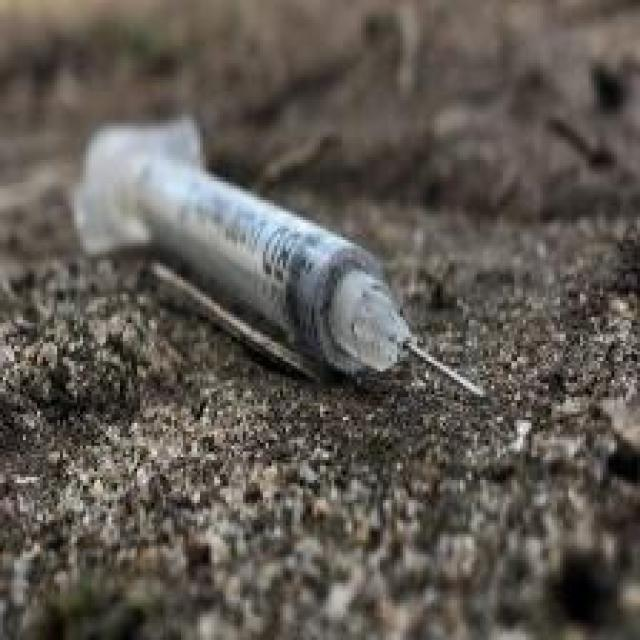syringe: (70, 108, 494, 432)
